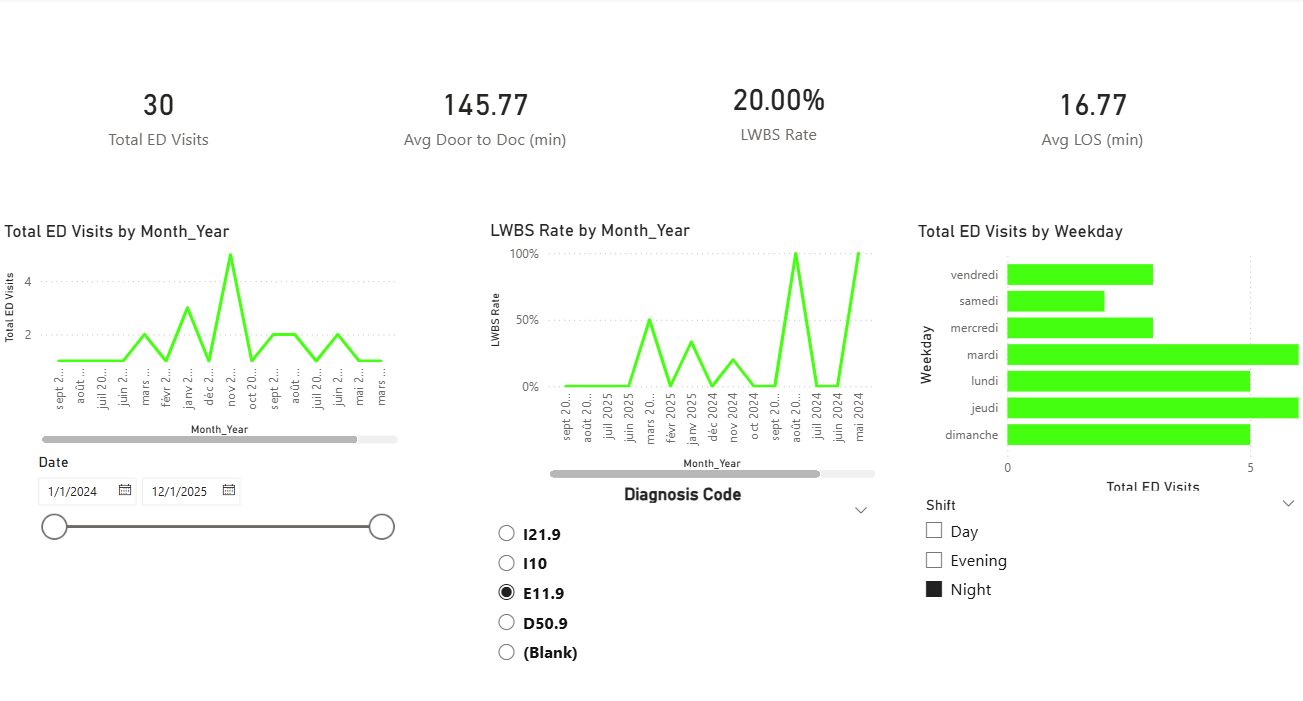

The page's visual inventory and layout, read from the dashboard file:
{"tool":"powerbi","page":{"name":"Executive summary","canvas":[1280,720],"ordinal":0},"visuals":[{"type":"card","fields":{"Values":["CN_CLEAN_DATA.Total ED Visits"]},"box":[9.6,0,293,228.1],"z":0},{"type":"card","fields":{"Values":["CN_CLEAN_DATA.Avg Door to Doc (min)"]},"box":[341,0,269,228.1],"z":1000},{"type":"card","fields":{"Values":["CN_CLEAN_DATA.LWBS Rate"]},"box":[629.2,0,266.6,218.5],"z":2000},{"type":"card","fields":{"Values":["CN_CLEAN_DATA.Avg Arrival to Triage (min)"]},"box":[935.4,0,269,228.1],"z":3000},{"type":"lineChart","fields":{"Category":["Dim_Date_Clean.Month_Year"],"Y":["CN_CLEAN_DATA.LWBS Rate"]},"box":[475.5,217.3,386.6,258.2],"z":4000},{"type":"clusteredBarChart","fields":{"Y":["CN_CLEAN_DATA.Total ED Visits"],"Category":["Dim_Date_Clean.Weekday"]},"box":[893.3,218.3,386.7,273.3],"z":5000},{"type":"slicer","fields":{"Values":["Dim_Date_Clean.Date"]},"box":[25.2,441.9,369.8,277.4],"z":6000},{"type":"slicer","title":"Diagnosis Code","fields":{"Values":["dim_patient_final.Diagnosis_Code"]},"box":[475.5,475.5,386.6,245],"z":7000},{"type":"slicer","fields":{"Values":["Dim_Staff.Shift"]},"box":[893.3,483.3,386.7,228.3],"z":8000},{"type":"lineChart","fields":{"Category":["Dim_Date_Clean.Month_Year"],"Y":["CN_CLEAN_DATA.Total ED Visits"]},"box":[0,218.6,395.3,223.3],"z":9000}]}

Visuals, with their boxes on the page's 1280x720 design canvas (x1, y1, x2, y2). These are canvas units, not pixel positions in the 1303x701 screenshot, which may show the page scaled, cropped or inside an application window:
card - CN_CLEAN_DATA.Total ED Visits: l=10, t=0, r=303, b=228
card - CN_CLEAN_DATA.Avg Door to Doc (min): l=341, t=0, r=610, b=228
card - CN_CLEAN_DATA.LWBS Rate: l=629, t=0, r=896, b=218
card - CN_CLEAN_DATA.Avg Arrival to Triage (min): l=935, t=0, r=1204, b=228
lineChart - Dim_Date_Clean.Month_Year x CN_CLEAN_DATA.LWBS Rate: l=476, t=217, r=862, b=476
clusteredBarChart - CN_CLEAN_DATA.Total ED Visits x Dim_Date_Clean.Weekday: l=893, t=218, r=1280, b=492
slicer - Dim_Date_Clean.Date: l=25, t=442, r=395, b=719
"Diagnosis Code" slicer: l=476, t=476, r=862, b=720
slicer - Dim_Staff.Shift: l=893, t=483, r=1280, b=712
lineChart - Dim_Date_Clean.Month_Year x CN_CLEAN_DATA.Total ED Visits: l=0, t=219, r=395, b=442
